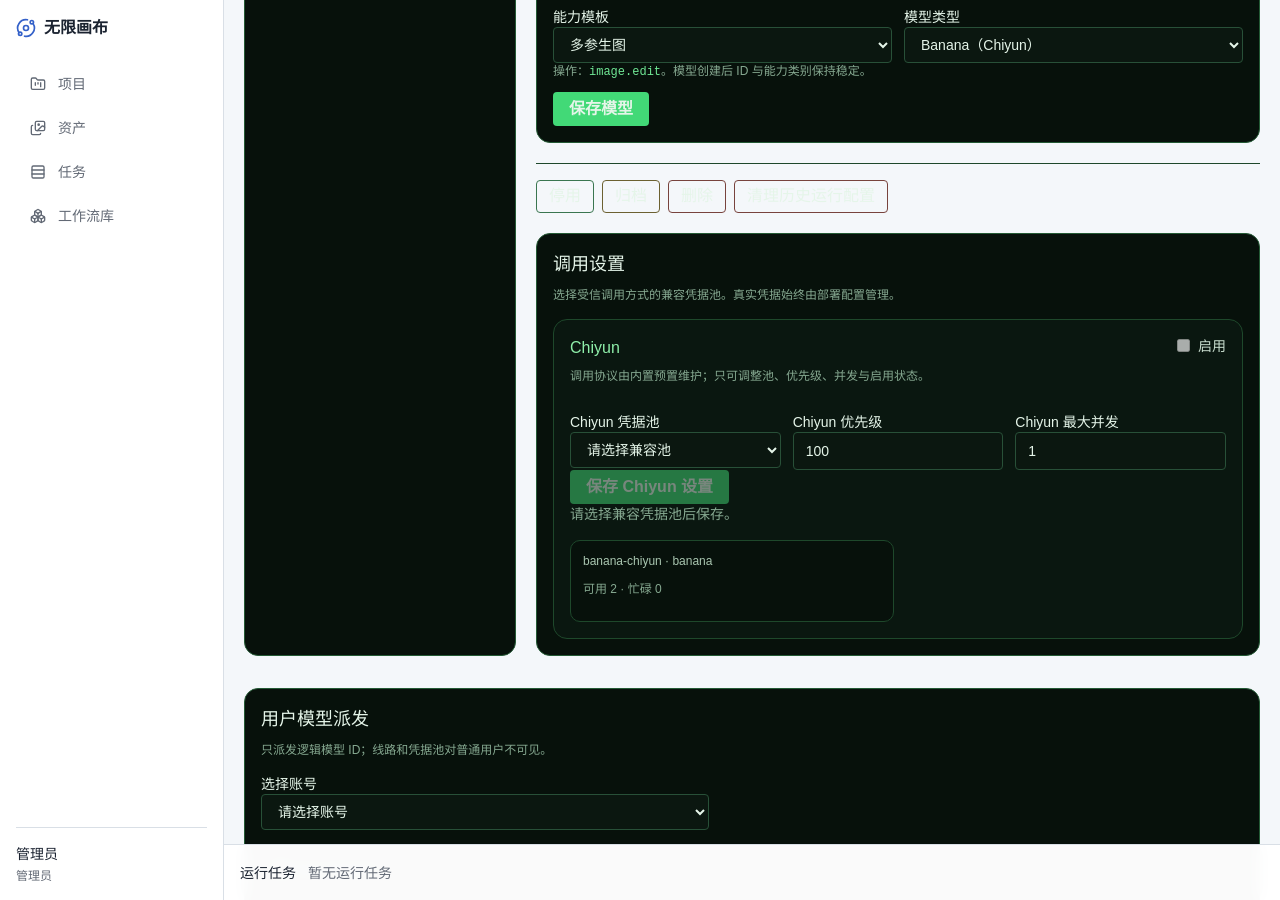
keeps the logical-model administrator usable without horizontal overflow at 415 px
The image size is (1280, 900).
(page scrolled)
Check: the heading "调用设置" is shown, box [553, 254, 625, 274]
Check: the element named "Chiyun 调用设置" is shown, box [553, 319, 1243, 639]
Select "banana-chiyun · banana" in the dropdown labelled "Chiyun 凭据池": {"x": 675, "y": 450} [570, 432, 781, 468]
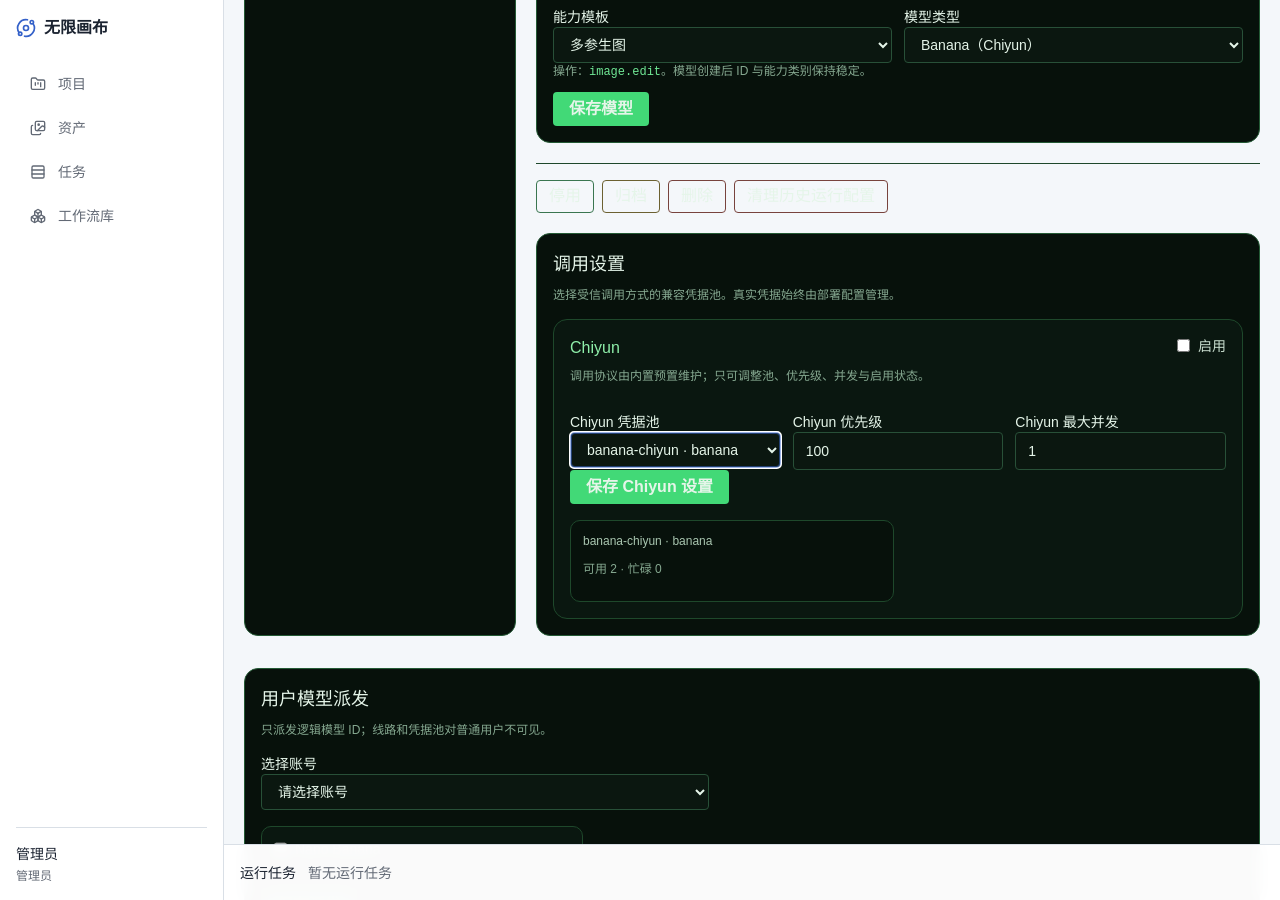
Check: the button "保存 Chiyun 设置" is enabled, box [570, 470, 729, 504]
